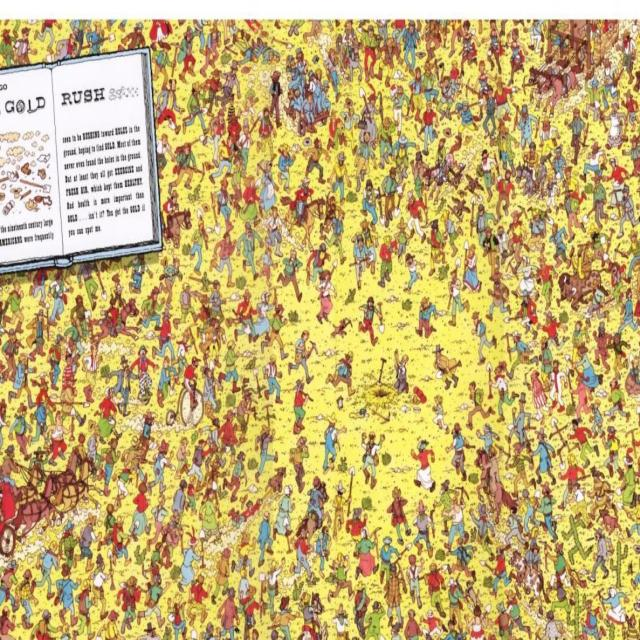waldo: (65, 351, 72, 365)
